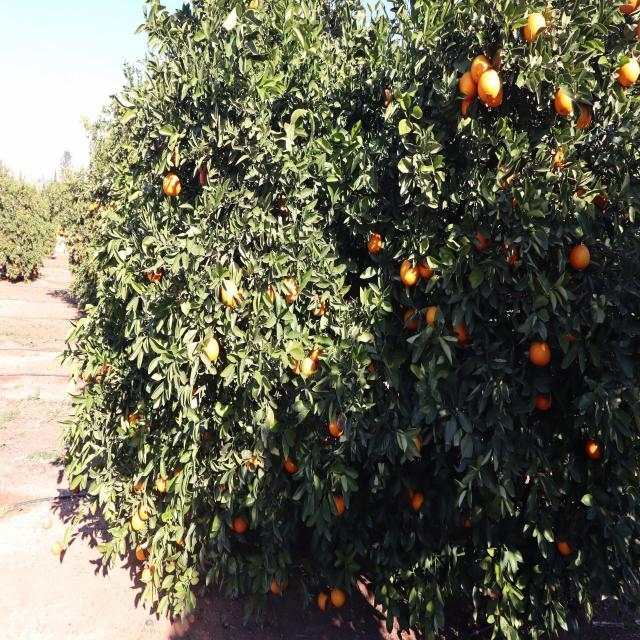Jeruk Sudah Matang: (616, 53, 640, 92), (530, 380, 554, 418), (477, 68, 502, 104), (554, 85, 578, 121), (523, 12, 548, 46), (403, 426, 425, 464), (494, 160, 520, 190), (498, 239, 522, 270), (459, 67, 479, 103), (472, 224, 494, 256), (529, 340, 553, 368), (198, 336, 222, 364), (417, 252, 442, 278), (402, 256, 420, 292), (309, 292, 332, 320), (570, 104, 594, 130), (570, 245, 592, 273), (280, 276, 302, 304), (221, 280, 242, 308), (471, 56, 493, 82), (586, 436, 605, 466), (162, 176, 186, 198), (556, 538, 578, 560), (458, 96, 480, 118), (144, 266, 168, 286), (554, 142, 570, 172), (426, 306, 444, 332), (618, 0, 640, 21), (134, 542, 153, 566), (454, 320, 471, 346), (316, 588, 332, 614), (269, 574, 285, 600), (328, 416, 346, 439), (281, 452, 299, 475), (126, 418, 146, 438), (302, 355, 318, 379), (331, 588, 348, 610), (460, 511, 476, 534), (507, 192, 523, 214), (130, 512, 148, 531), (331, 498, 347, 517), (369, 234, 384, 254), (152, 475, 169, 492), (234, 516, 248, 535), (412, 496, 427, 513), (132, 480, 146, 498)
